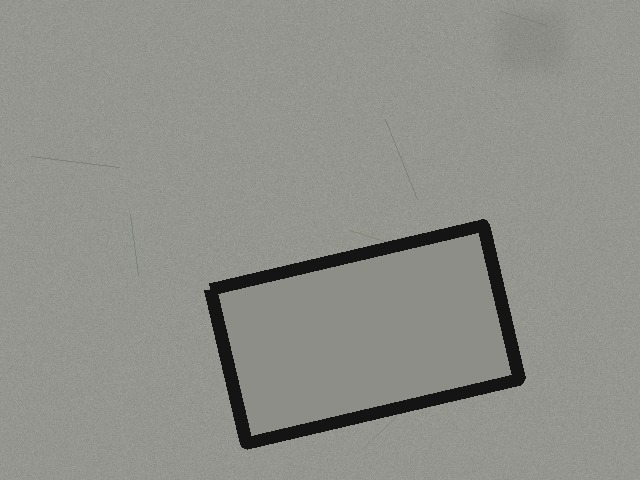parking_area: (210, 225, 519, 443)
